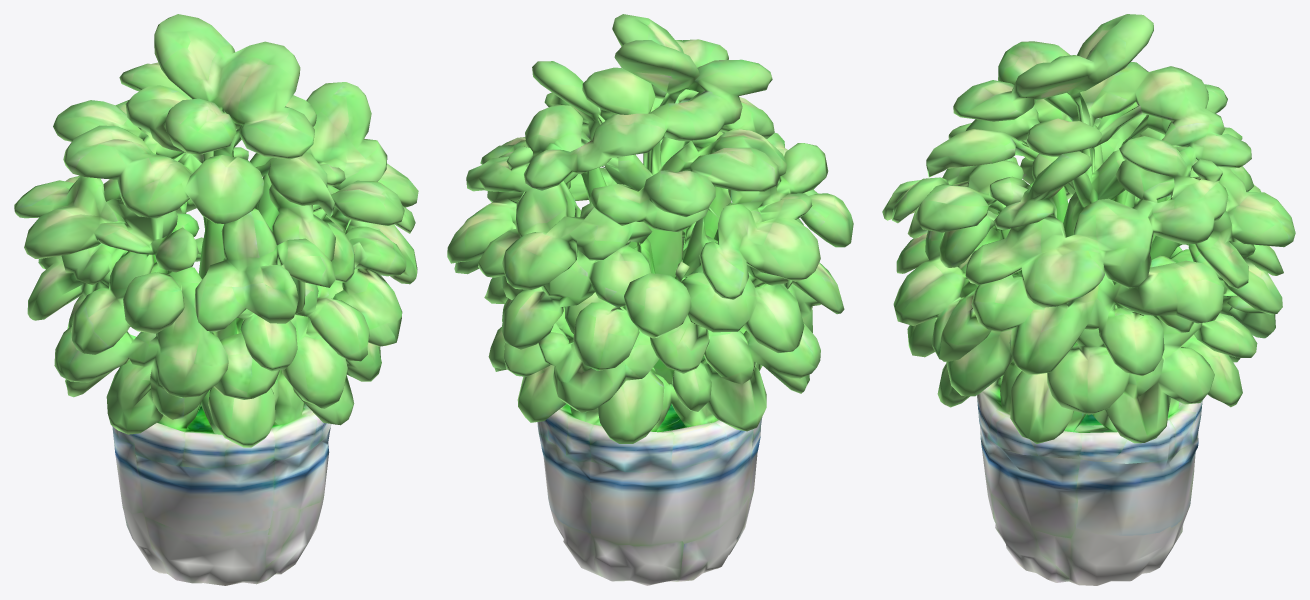
Rendered from plant.glb.
The picture shows the model from 3 angles, left to right: view 1: azimuth 30°, elevation 25°; view 2: azimuth 150°, elevation 25°; view 3: azimuth 270°, elevation 25°; orthographic projection.
Bounding box in the file's own units: 1.34 × 1.89 × 1.35.
1 material, 1 textured.
